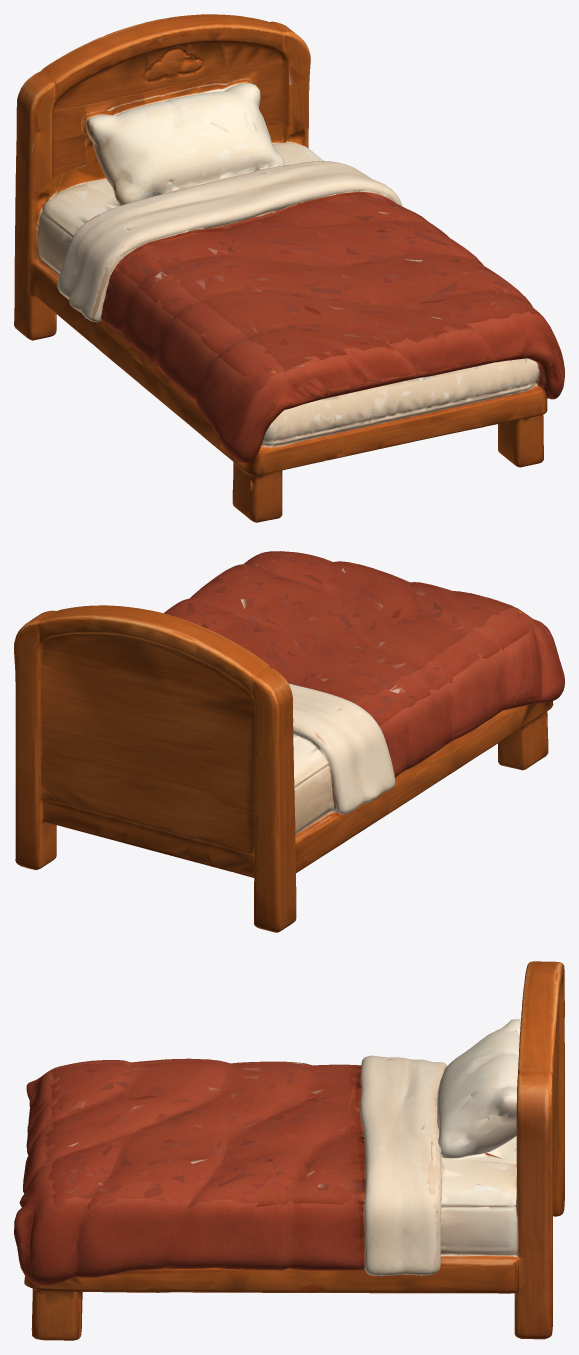
File: HomeBedAI.fbx
3 renders of one model, top to bottom at view 1: azimuth 30°, elevation 25°; view 2: azimuth 150°, elevation 25°; view 3: azimuth 270°, elevation 25°, orthographic.
Visible parts, largest first — view 1: HomeBedAI_Mesh_0; view 2: HomeBedAI_Mesh_0; view 3: HomeBedAI_Mesh_0.
Part boxes in pixels (x1,y1,x2,y2): HomeBedAI_Mesh_0: (14,14,564,522); HomeBedAI_Mesh_0: (14,551,564,932); HomeBedAI_Mesh_0: (14,961,564,1340).
Bounding box in the file's own units: 1.49 × 1.21 × 2.11.
